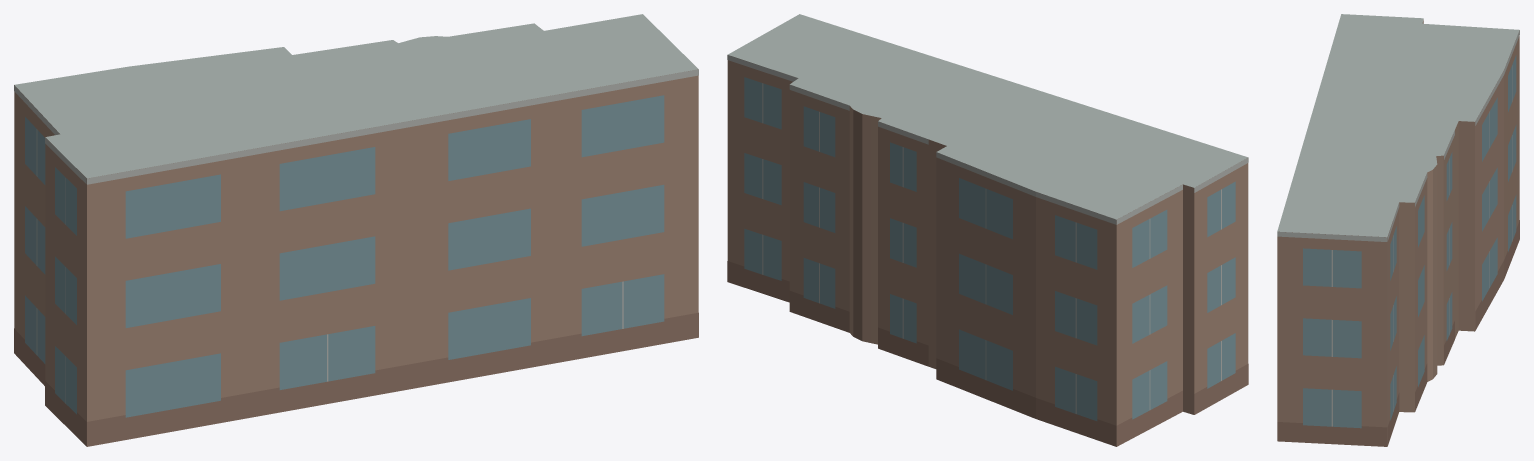
Rendered from survey-upis-32608669.glb.
3 renders of one model, left to right at view 1: azimuth 30°, elevation 25°; view 2: azimuth 150°, elevation 25°; view 3: azimuth 270°, elevation 25°, orthographic. The views are drawn at different scales.
Parts seen in each view (by area): view 1: survey-upis-32608669.tmp; view 2: survey-upis-32608669.tmp; view 3: survey-upis-32608669.tmp.
Part boxes in pixels (bbox=[...]): survey-upis-32608669.tmp: bbox=[14, 14, 698, 446]; survey-upis-32608669.tmp: bbox=[727, 14, 1248, 446]; survey-upis-32608669.tmp: bbox=[1277, 14, 1519, 446].
Bounding box in the file's own units: 23.75 × 10.4 × 10.91.
